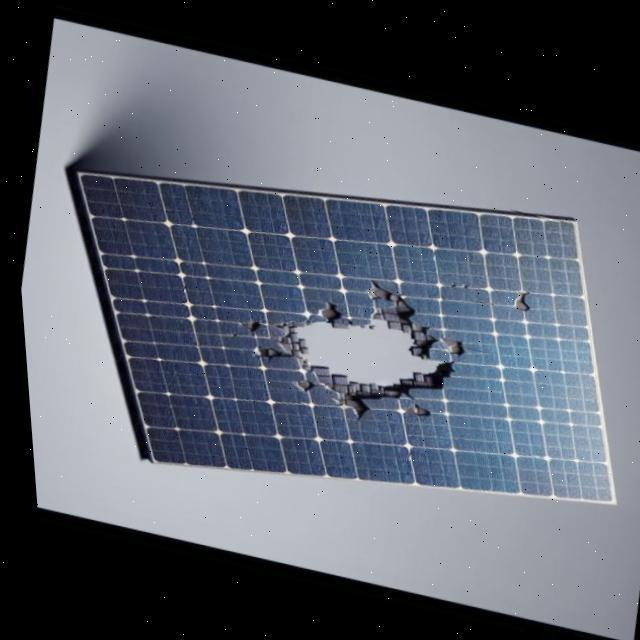Anomaly Solar Panel: (77, 174, 608, 504)
Structural Damage: (235, 259, 475, 439), (395, 398, 430, 417), (508, 283, 529, 310), (287, 374, 312, 395)
